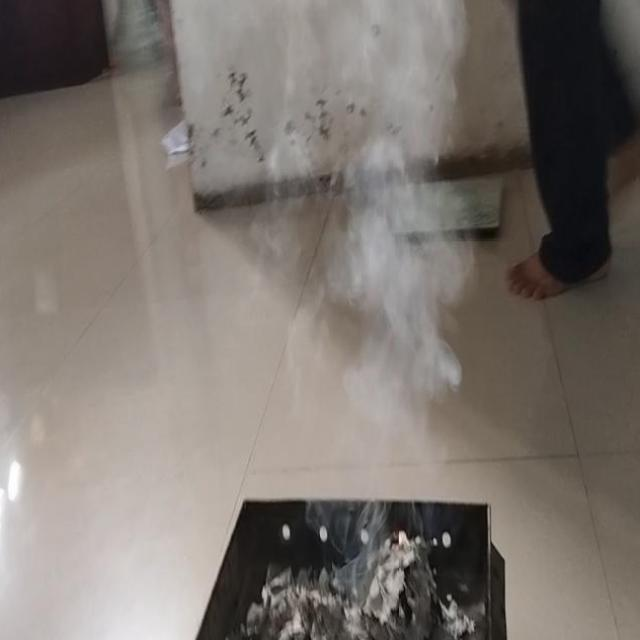fire: (335, 0, 476, 430)
